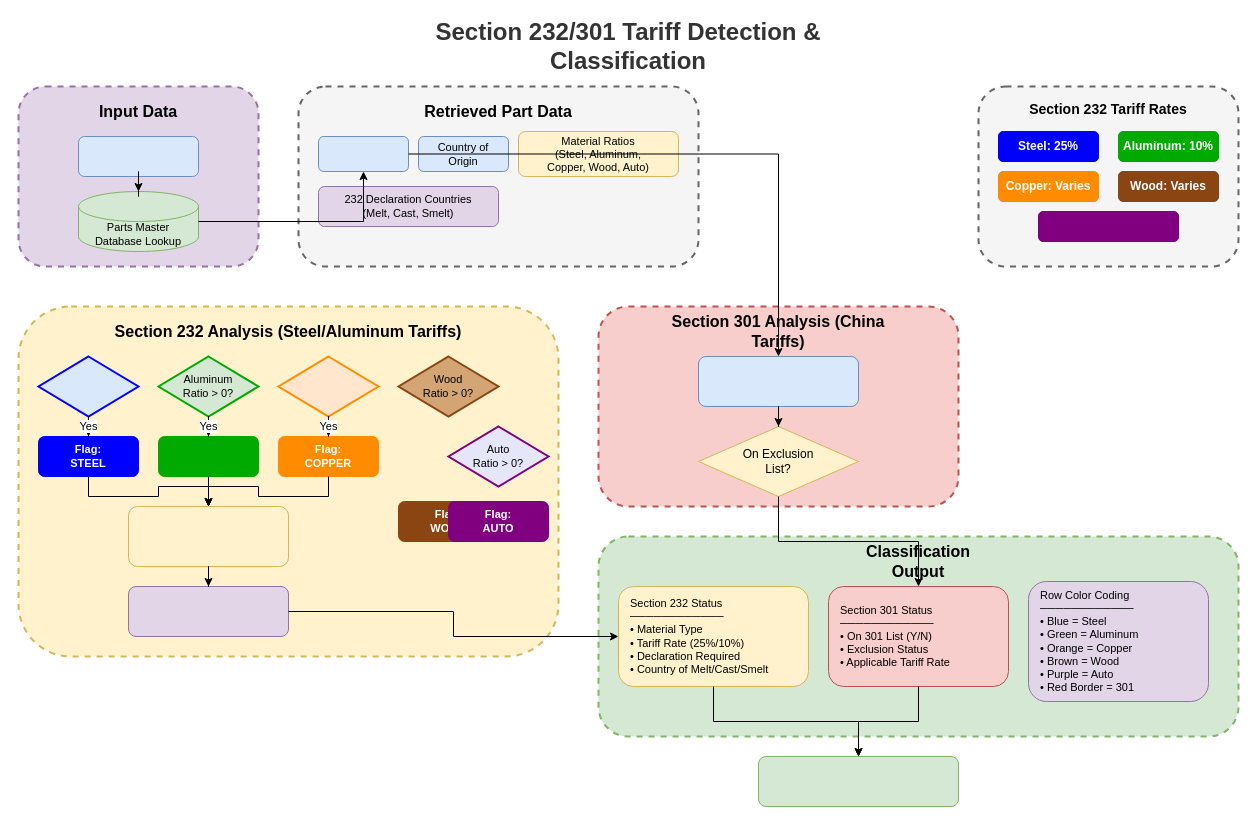
This 1256x824 diagram has some shape labels left out. The centre of each missing label's shape, as x and y in pixels:
Auto: USMCA Rules: point 1108,226
Check 232 Declaration Countries: point 208,611
Check HTS Code Against 301 List: point 778,381
Copper Ratio > 0?: point 328,386
Determine Primary Material (Highest Ratio): point 208,536
Display in Preview Table with Color-Coded Rows: point 858,781
Flag: ALUMINUM: point 208,456
HTS Code: point 363,154
Part Number: point 138,156
Steel Ratio > 0?: point 88,386
